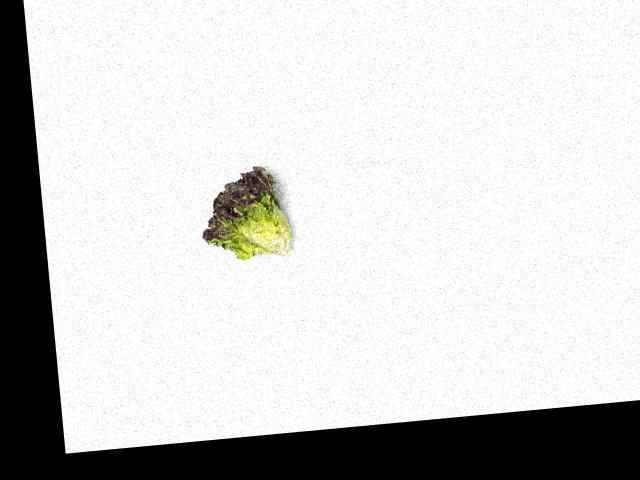lettuce: (197, 157, 294, 267)
